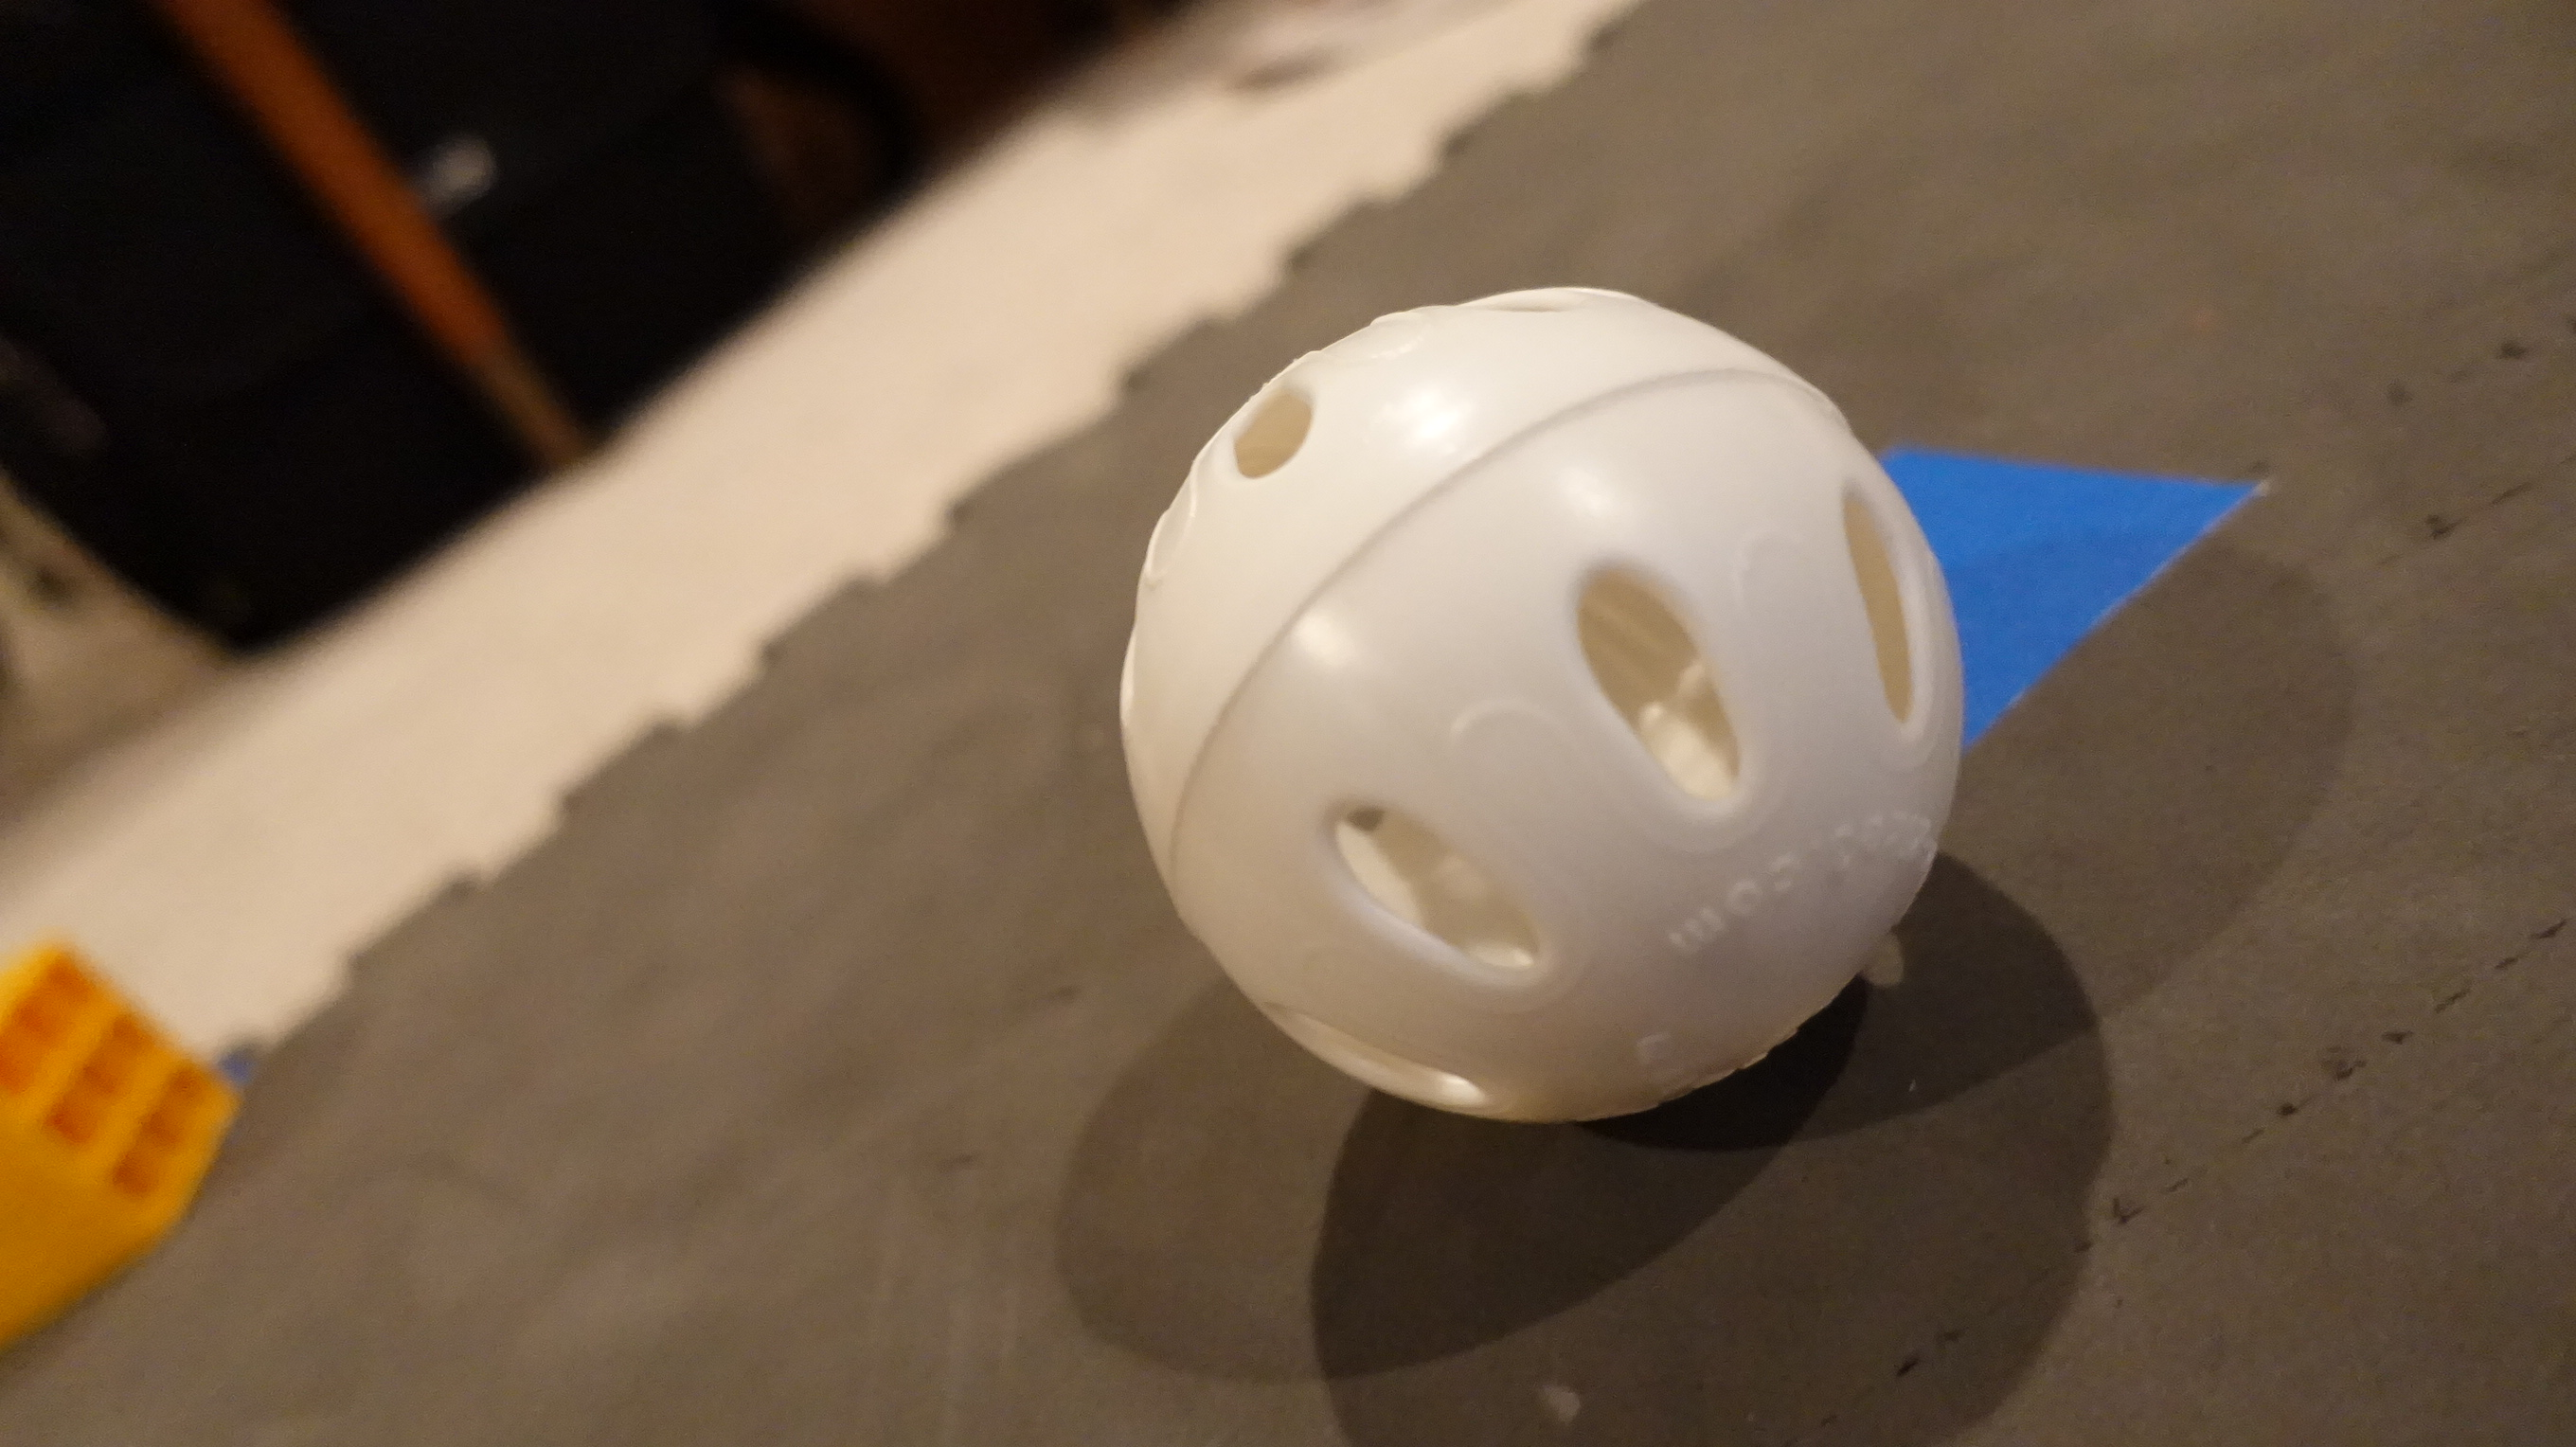gold: (2, 929, 248, 1374)
silver: (1108, 274, 1983, 1132)
